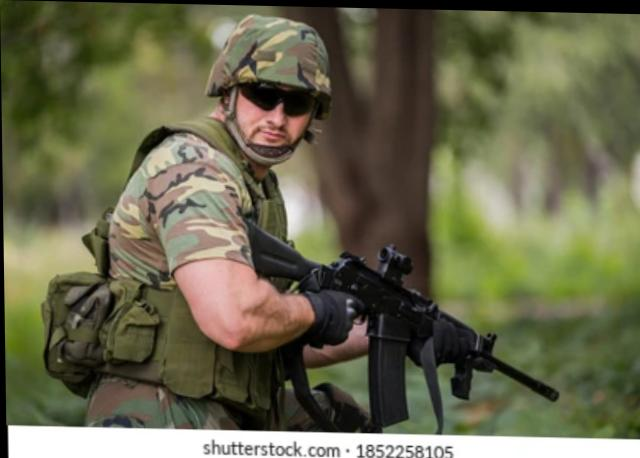other: (70, 9, 355, 430)
